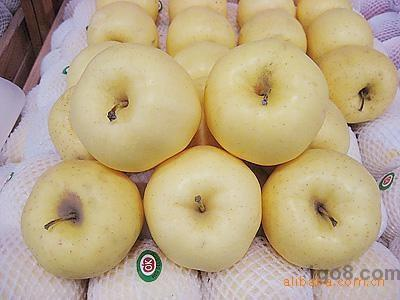apple: (63, 41, 203, 174), (201, 36, 337, 167), (260, 144, 384, 273), (144, 144, 262, 273), (20, 157, 142, 279), (313, 47, 397, 124)
